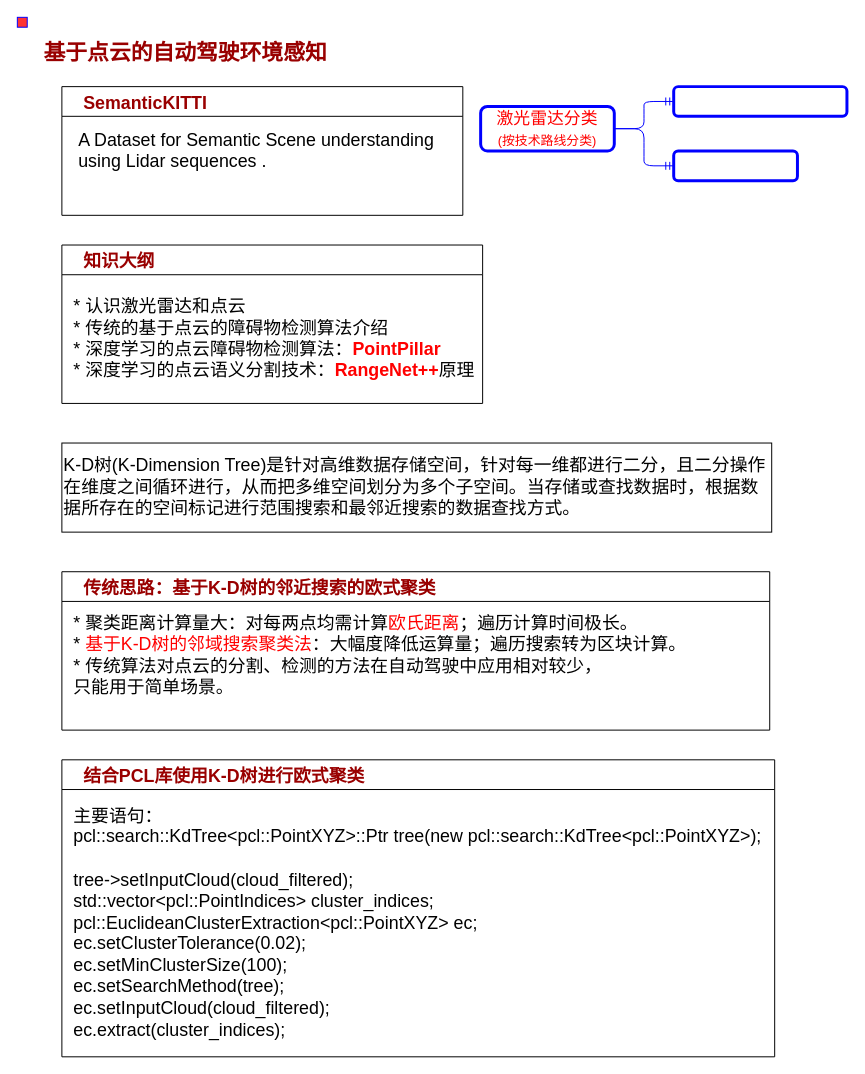
This 865x1074 diagram has some shape labels left out. Each missing label, with the centre of its shape:
TOF(time of flight,时间飞行法): [760,101]
三角测距法激光雷达: [735,165]
